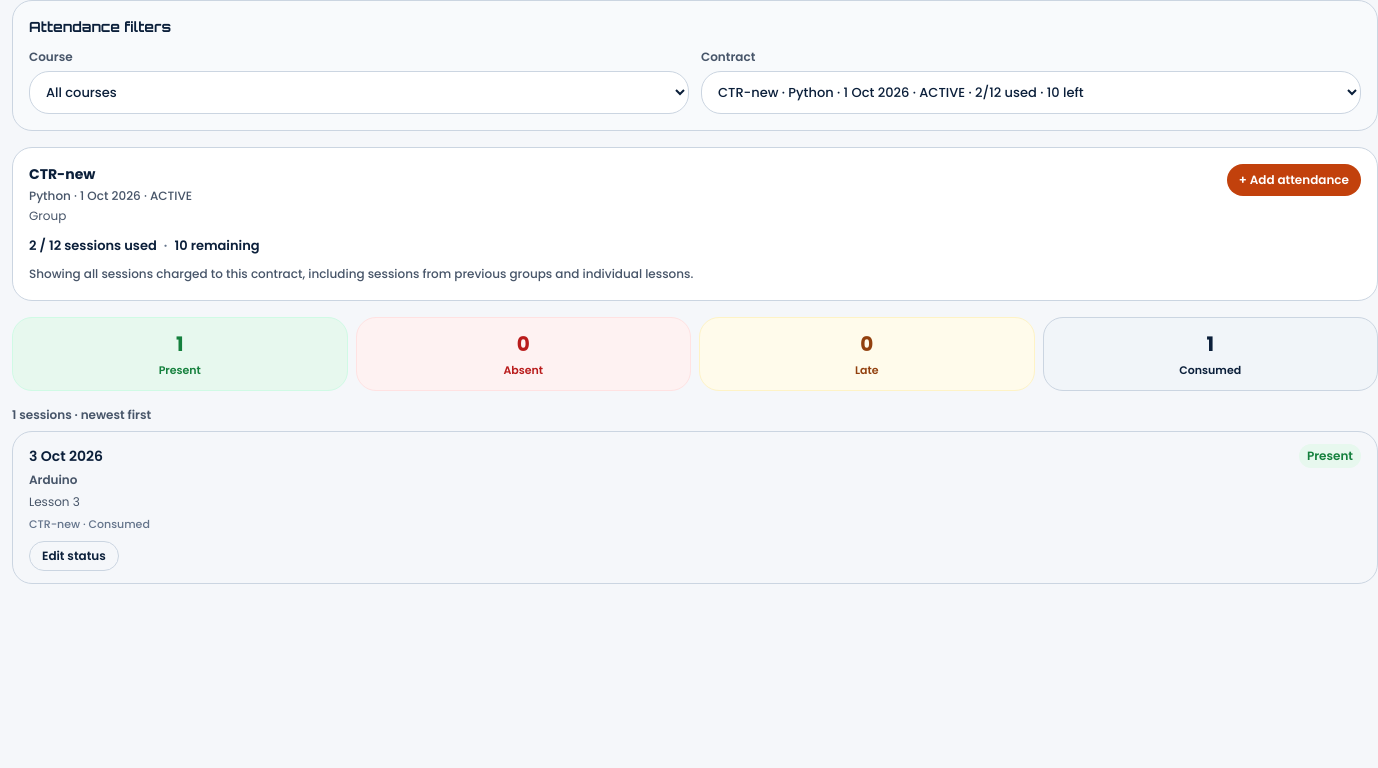
Test: student attendance selection › changes Present to Absent without changing contract consumption
Click the button "Edit status": [74, 556] box [29,540,119,570]
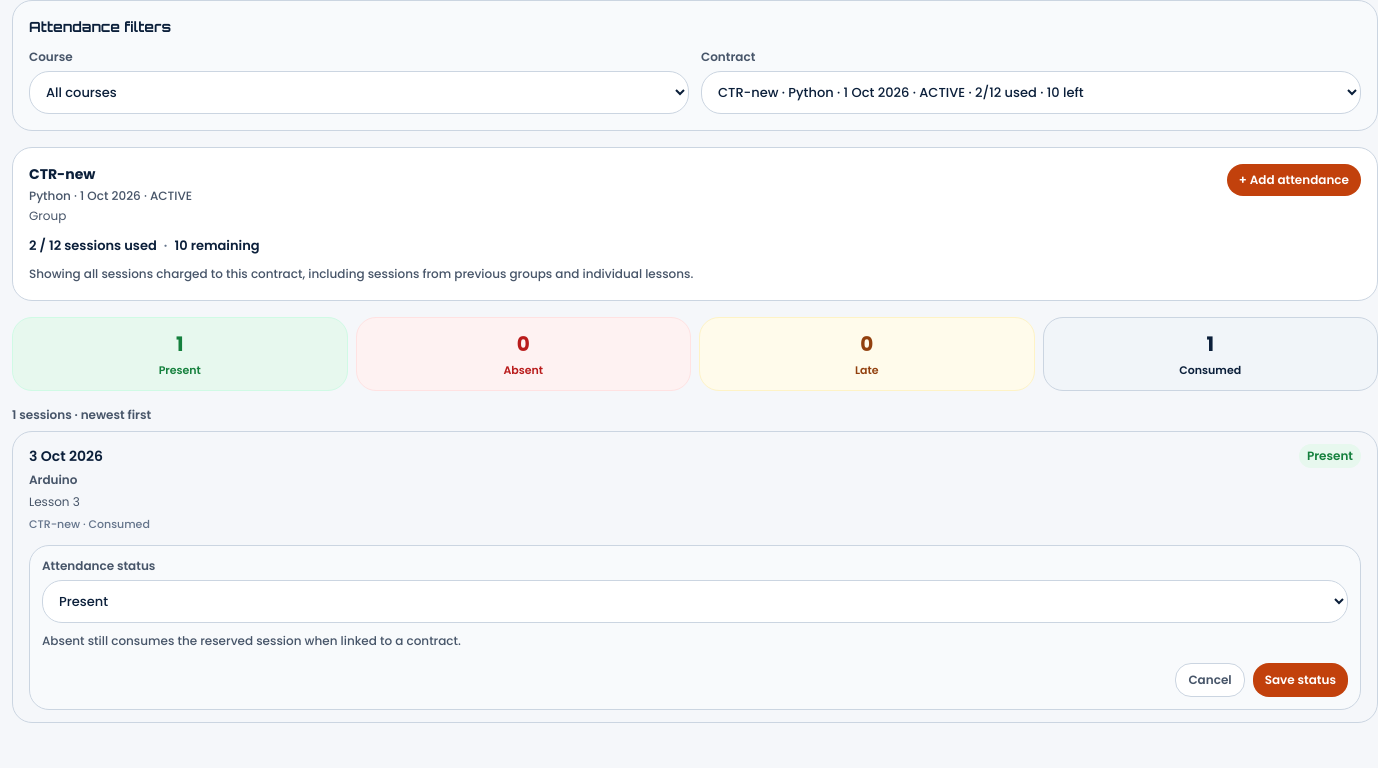
Select "Absent" in the dropdown named "Edit attendance status": [695, 601] box [42,580,1348,622]
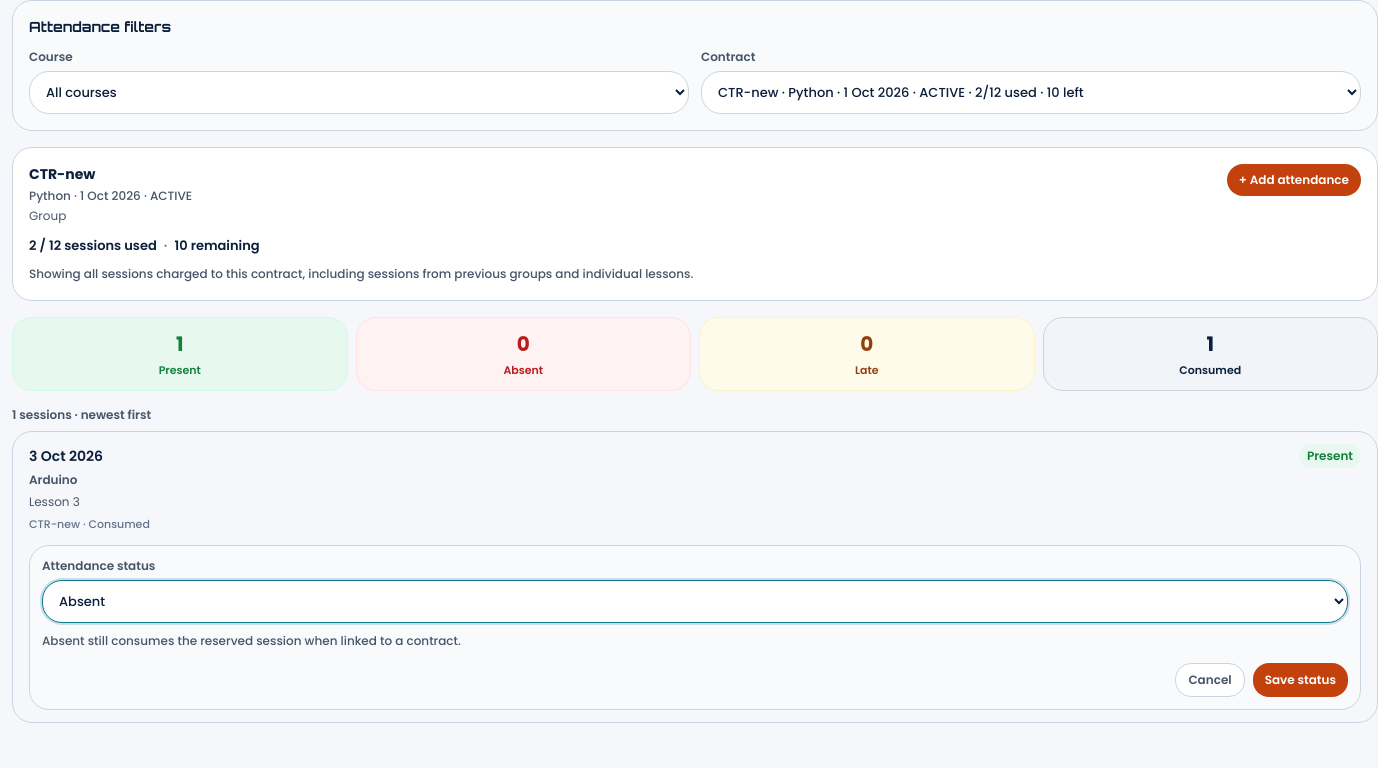
Click the button "Save status": [1300, 680] box [1253,662,1348,696]
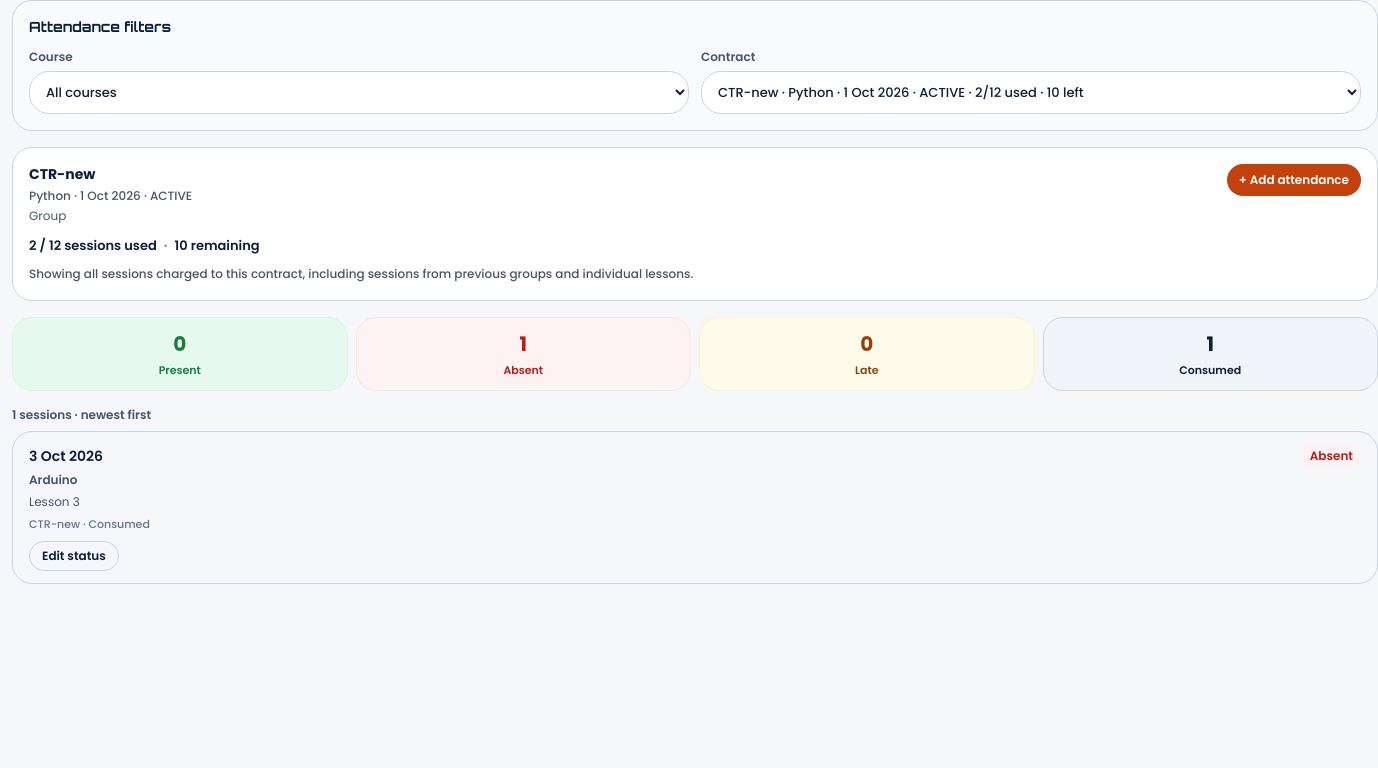
Expected: the 2nd text "1" is shown, [1206,330,1214,358]
Now the button "Edit status" is shown, box [29,540,119,570]
